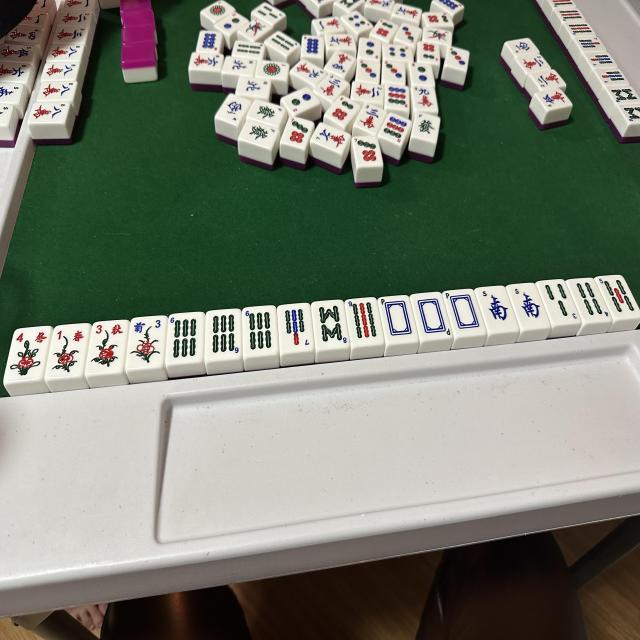bf3: (129, 318, 165, 368)
bs1: (50, 325, 87, 375)
bs3: (90, 321, 126, 371)
bs4: (9, 326, 50, 378)
hdw: (446, 290, 480, 336), (415, 294, 449, 338), (380, 296, 413, 341)
hws: (481, 286, 512, 326), (514, 286, 544, 326)
sb3: (544, 282, 578, 322)
sb4: (575, 278, 610, 319)
sb5: (598, 274, 636, 315)
sb6: (169, 314, 203, 362), (207, 312, 241, 358), (242, 308, 276, 354)
sb7: (280, 305, 311, 348)
sb8: (315, 302, 348, 348)
sb9: (347, 298, 381, 342)
